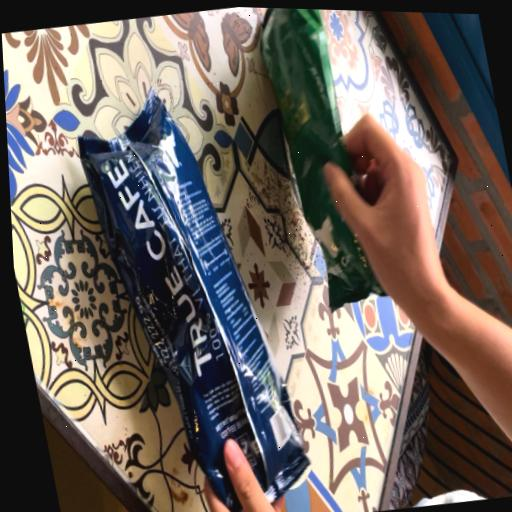cafe_hat: (78, 90, 309, 512)
cafe_xay: (259, 8, 385, 308)
